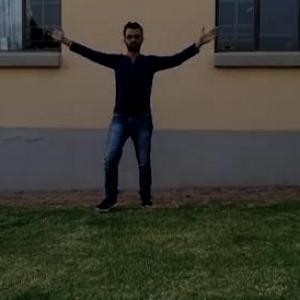takeoff: (59, 19, 225, 196)
